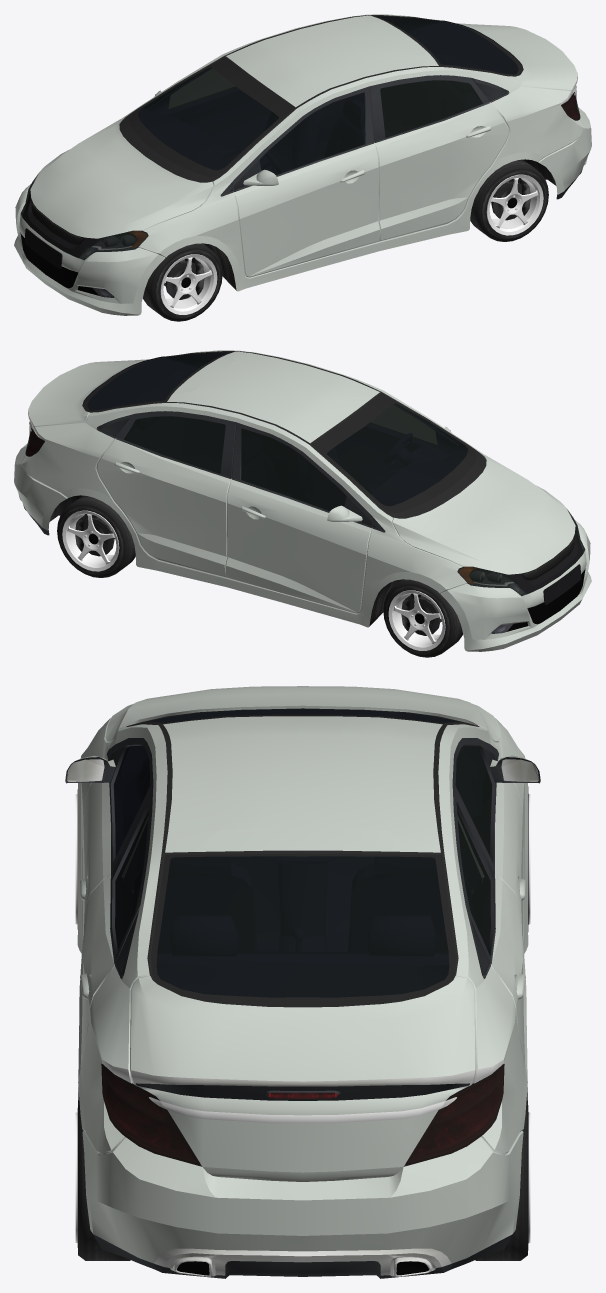
Rendered from kiri10.fbx.
3 renders of one model, top to bottom at view 1: azimuth 30°, elevation 25°; view 2: azimuth 150°, elevation 25°; view 3: azimuth 270°, elevation 25°, orthographic. The views are drawn at different scales.
Visible parts, largest first — view 1: body, glass, interior, plastic_trim, wheels, glass_trim_colour, headlight_left; view 2: body, glass, interior, plastic_trim, wheels, glass_trim_colour, headlight_left; view 3: body, glass, interior, plastic_trim, stoplights, glass_trim_colour, wheels.
Part boxes in pixels (box(x1,y1,x2,y2)): body: box(14, 14, 591, 315); glass: box(138, 16, 518, 174); interior: box(138, 16, 523, 174); plastic_trim: box(20, 15, 587, 299); wheels: box(143, 159, 548, 321); glass_trim_colour: box(129, 15, 523, 177); headlight_left: box(20, 173, 148, 297); body: box(14, 350, 591, 651); glass: box(87, 352, 467, 510); interior: box(82, 352, 467, 509); plastic_trim: box(18, 351, 585, 635); wheels: box(57, 495, 462, 657); glass_trim_colour: box(82, 351, 476, 513); headlight_left: box(457, 509, 585, 633); body: box(76, 686, 529, 1263); glass: box(113, 709, 492, 997); interior: box(114, 709, 491, 1084); plastic_trim: box(65, 708, 540, 1278); stoplights: box(101, 1064, 504, 1165); glass_trim_colour: box(144, 708, 461, 1007); wheels: box(75, 786, 530, 1260).
Bounding box in the file's own units: 172 × 56.71 × 67.2.
